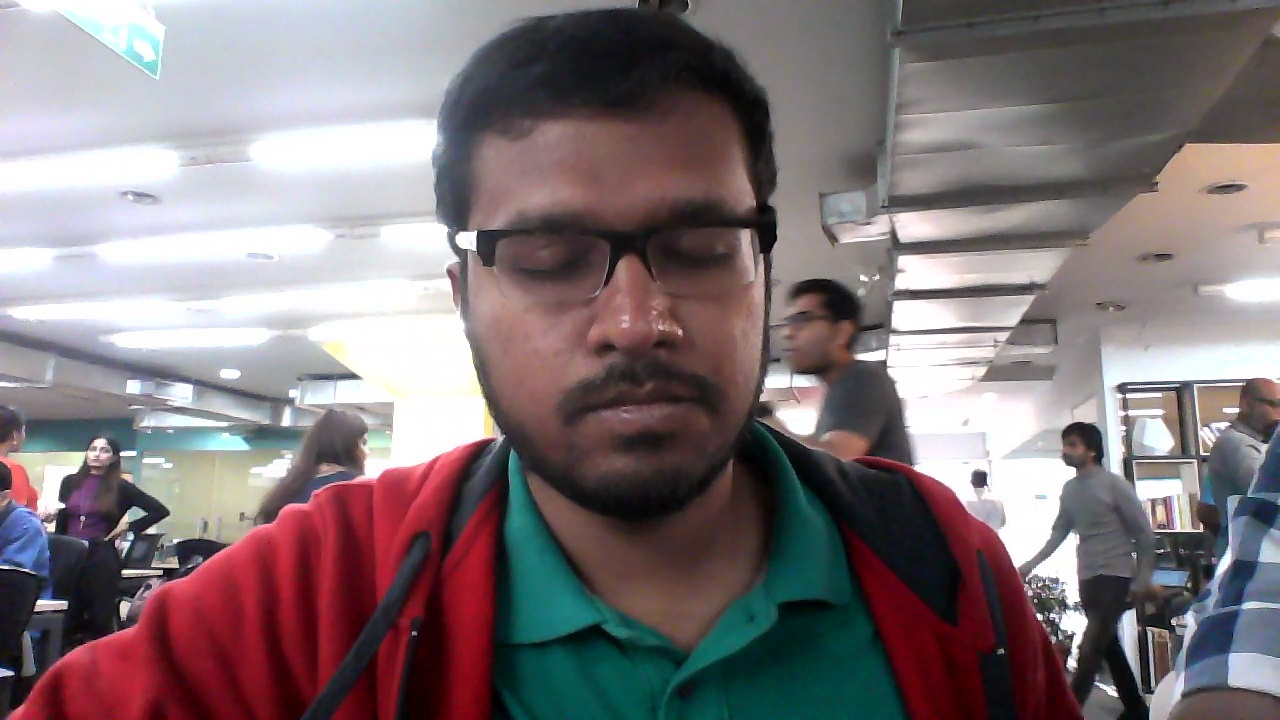closed: (436, 16, 788, 530)
